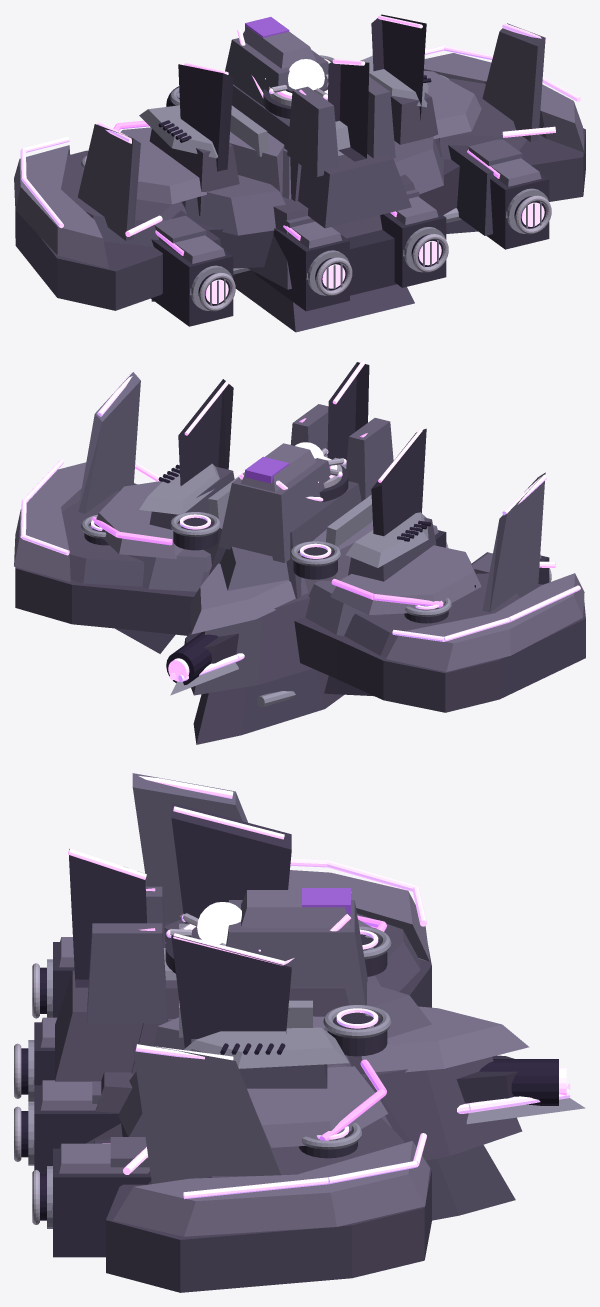
The model's file is Simulant_Dreadwing_Hull.glb.
The picture shows the model from 3 angles, top to bottom: view 1: azimuth 30°, elevation 25°; view 2: azimuth 150°, elevation 25°; view 3: azimuth 270°, elevation 25°; orthographic projection. The views are drawn at different scales.
Visible parts, largest first — view 1: 20_L_Wing_Core, 23_L_Outer_Lance, 40_Heavy_Rear_Spine, 30_L_Tall_Outer_Fin, 30_R_Tall_Outer_Fin, 00_Keel_Belly_Shadow, 20_R_Wing_Core, 21_L_Wing_Root_Heavy, 32_L_Tall_Inner_Fin, 57_L_Aft_Pylon, 23_R_Outer_Lance, 32_R_Tall_Inner_Fin (+40 smaller); view 2: 20_L_Wing_Core, 23_L_Outer_Lance, 20_R_Wing_Core, 11_Tall_Bridge, 00_Keel_Belly_Shadow, 01_Main_Hull_Core, 24_L_Wing_Carapace, 30_R_Tall_Outer_Fin, 30_L_Tall_Outer_Fin, 23_R_Outer_Lance, 02_Nose_Armour, 22_R_Wing_Armour_Barbed (+29 smaller); view 3: 20_R_Wing_Core, 23_R_Outer_Lance, 30_R_Tall_Outer_Fin, 32_R_Tall_Inner_Fin, 32_L_Tall_Inner_Fin, 01_Main_Hull_Core, 57_R_Aft_Pylon, 11_Tall_Bridge, 24_R_Wing_Carapace, 02_Nose_Armour, 30_L_Tall_Outer_Fin, 40_Heavy_Rear_Spine (+38 smaller).
Boxes of the visible parts, x1=… form: 20_L_Wing_Core: x1=15, y1=210, x2=273, y2=310; 23_L_Outer_Lance: x1=14, y1=145, x2=108, y2=268; 40_Heavy_Rear_Spine: x1=298, y1=154, x2=411, y2=228; 30_L_Tall_Outer_Fin: x1=78, y1=124, x2=140, y2=240; 30_R_Tall_Outer_Fin: x1=482, y1=23, x2=545, y2=142; 00_Keel_Belly_Shadow: x1=233, y1=270, x2=414, y2=332; 20_R_Wing_Core: x1=419, y1=128, x2=585, y2=214; 21_L_Wing_Root_Heavy: x1=181, y1=175, x2=285, y2=235; 32_L_Tall_Inner_Fin: x1=178, y1=64, x2=233, y2=171; 57_L_Aft_Pylon: x1=287, y1=86, x2=338, y2=176; 23_R_Outer_Lance: x1=423, y1=53, x2=584, y2=152; 32_R_Tall_Inner_Fin: x1=371, y1=14, x2=426, y2=120; 20_L_Wing_Core: x1=294, y1=584, x2=585, y2=712; 23_L_Outer_Lance: x1=386, y1=573, x2=584, y2=671; 20_R_Wing_Core: x1=15, y1=483, x2=196, y2=635; 11_Tall_Bridge: x1=218, y1=458, x2=335, y2=562; 00_Keel_Belly_Shadow: x1=193, y1=668, x2=344, y2=744; 01_Main_Hull_Core: x1=190, y1=569, x2=312, y2=695; 24_L_Wing_Carapace: x1=330, y1=545, x2=481, y2=614; 30_R_Tall_Outer_Fin: x1=77, y1=372, x2=140, y2=513; 30_L_Tall_Outer_Fin: x1=482, y1=472, x2=545, y2=612; 23_R_Outer_Lance: x1=14, y1=462, x2=86, y2=581; 02_Nose_Armour: x1=190, y1=563, x2=305, y2=634; 22_R_Wing_Armour_Barbed: x1=62, y1=491, x2=144, y2=586; 20_R_Wing_Core: x1=106, y1=1098, x2=431, y2=1292; 23_R_Outer_Lance: x1=113, y1=1141, x2=429, y2=1236; 30_R_Tall_Outer_Fin: x1=132, y1=1042, x2=281, y2=1183; 32_R_Tall_Inner_Fin: x1=171, y1=935, x2=291, y2=1048; 32_L_Tall_Inner_Fin: x1=171, y1=802, x2=291, y2=923; 01_Main_Hull_Core: x1=86, y1=1057, x2=522, y2=1160; 57_R_Aft_Pylon: x1=87, y1=923, x2=167, y2=1023; 11_Tall_Bridge: x1=226, y1=900, x2=367, y2=1005; 24_R_Wing_Carapace: x1=247, y1=1066, x2=387, y2=1147; 02_Nose_Armour: x1=361, y1=1006, x2=529, y2=1073; 30_L_Tall_Outer_Fin: x1=132, y1=773, x2=247, y2=922; 40_Heavy_Rear_Spine: x1=55, y1=970, x2=142, y2=1081.
Size of the model in its own units: 13.72 by 6.5 by 9.6.
